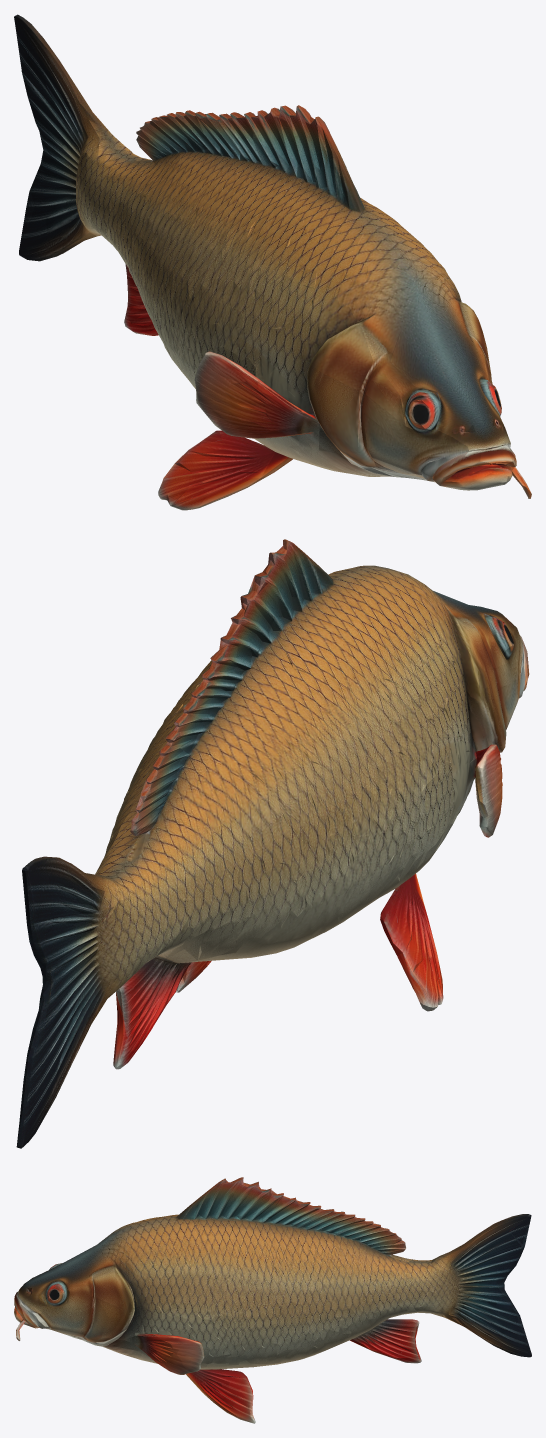
File: fish-carp.glb
3 views of the same model, one above another, from view 1: azimuth 30°, elevation 25°; view 2: azimuth 150°, elevation 25°; view 3: azimuth 270°, elevation 25° (orthographic). The views are drawn at different scales.
Size of the model in its own units: 0.6789 by 0.9153 by 1.9.
1 material, 1 textured.
